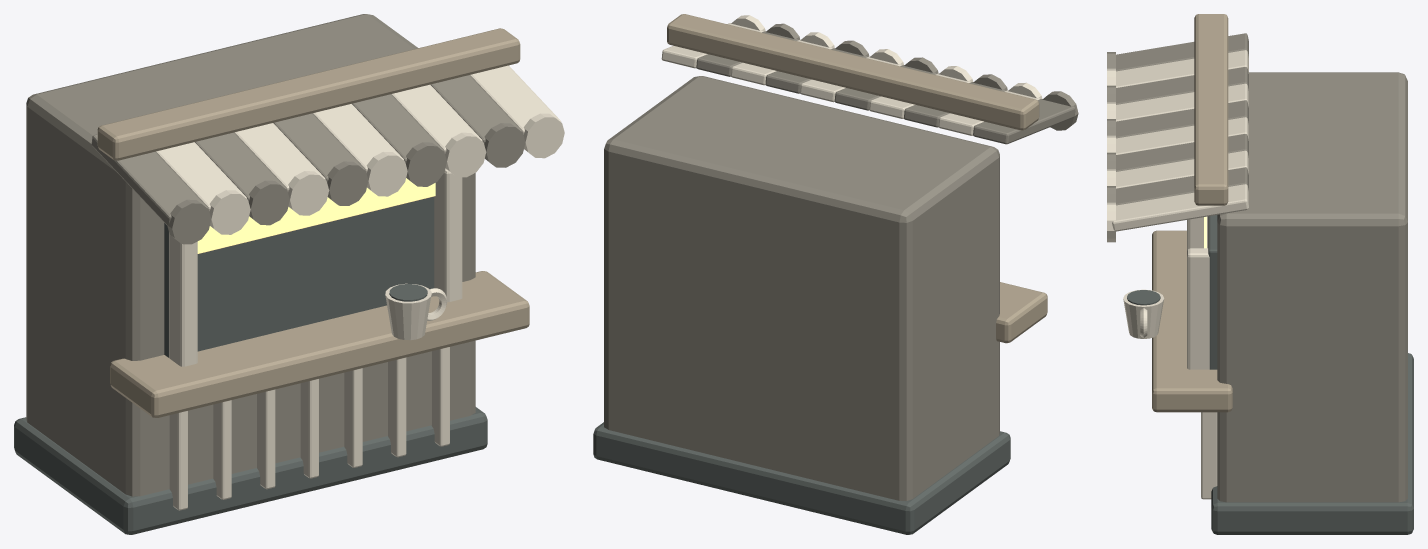
File: common_takeaway_window.glb
3 renders of one model, left to right at view 1: azimuth 30°, elevation 25°; view 2: azimuth 150°, elevation 25°; view 3: azimuth 270°, elevation 25°, orthographic. The views are drawn at different scales.
Visible parts, largest first — view 1: common_takeaway_window__common-sage, common_takeaway_window__common-ivory, common_takeaway_window__common-dark-timber, common_takeaway_window__common-brushed-brass, common_takeaway_window__common-warm-glow; view 2: common_takeaway_window__common-sage, common_takeaway_window__common-brushed-brass, common_takeaway_window__common-dark-timber, common_takeaway_window__common-ivory; view 3: common_takeaway_window__common-sage, common_takeaway_window__common-ivory, common_takeaway_window__common-brushed-brass, common_takeaway_window__common-dark-timber.
Boxes of the visible parts, x1,y1,x2,y2 form: common_takeaway_window__common-sage: (26,14,525,496); common_takeaway_window__common-ivory: (156,65,564,510); common_takeaway_window__common-dark-timber: (14,196,487,534); common_takeaway_window__common-brushed-brass: (97,28,529,417); common_takeaway_window__common-warm-glow: (197,178,435,253); common_takeaway_window__common-sage: (604,23,1078,500); common_takeaway_window__common-brushed-brass: (667,14,1047,343); common_takeaway_window__common-dark-timber: (593,422,1010,534); common_takeaway_window__common-ivory: (661,15,1042,135); common_takeaway_window__common-sage: (1107,33,1407,502); common_takeaway_window__common-ivory: (1107,50,1248,499); common_takeaway_window__common-brushed-brass: (1152,14,1232,412); common_takeaway_window__common-dark-timber: (1127,215,1413,534).
Bounding box in the file's own units: 2.8 × 2.71 × 2.09.
